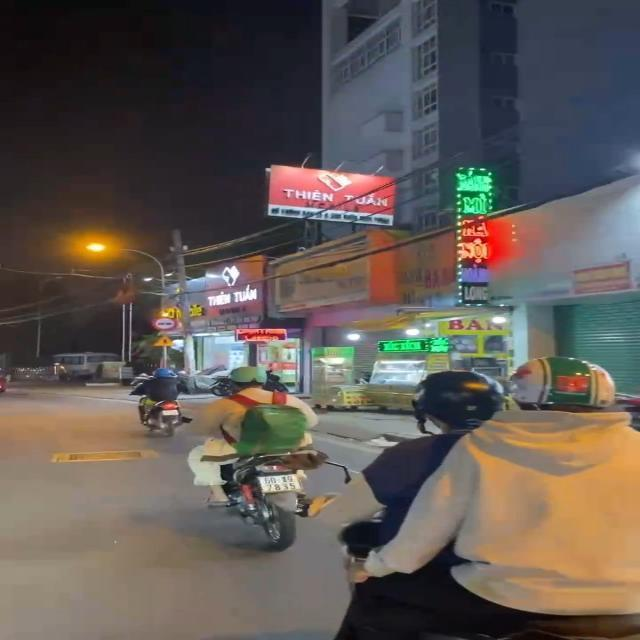125-cam-vuot: (152, 316, 176, 332)
207-giao-nhau-voi-duong-khong-uu-tien: (152, 334, 176, 346)
